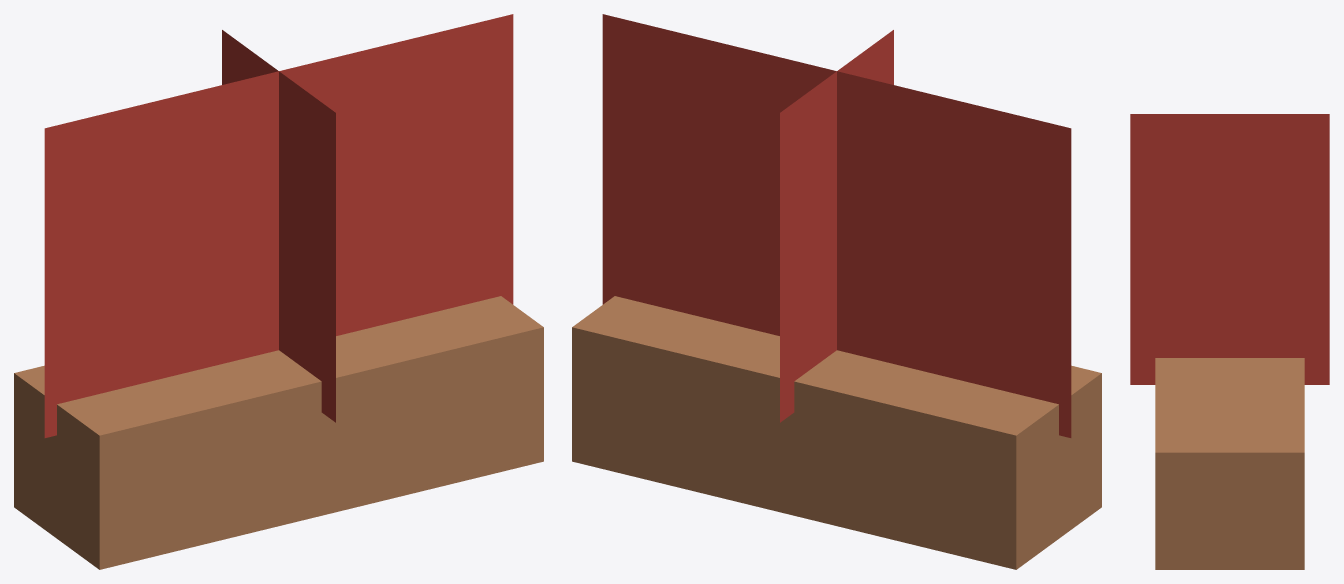
File: planter.glb
3 renders of one model, left to right at view 1: azimuth 30°, elevation 25°; view 2: azimuth 150°, elevation 25°; view 3: azimuth 270°, elevation 25°, orthographic. The views are drawn at different scales.
Visible parts, largest first — view 1: planter; view 2: planter; view 3: planter.
Part boxes in pixels (box(x1,y1,x2,y2)): planter: box(14, 14, 543, 569); planter: box(572, 14, 1101, 569); planter: box(1130, 114, 1329, 569).
Size of the model in its own units: 0.95 by 0.8 by 0.4.
